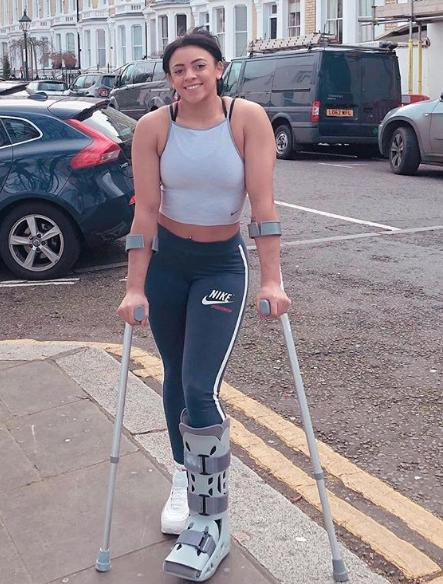crutches: (89, 24, 357, 584)
